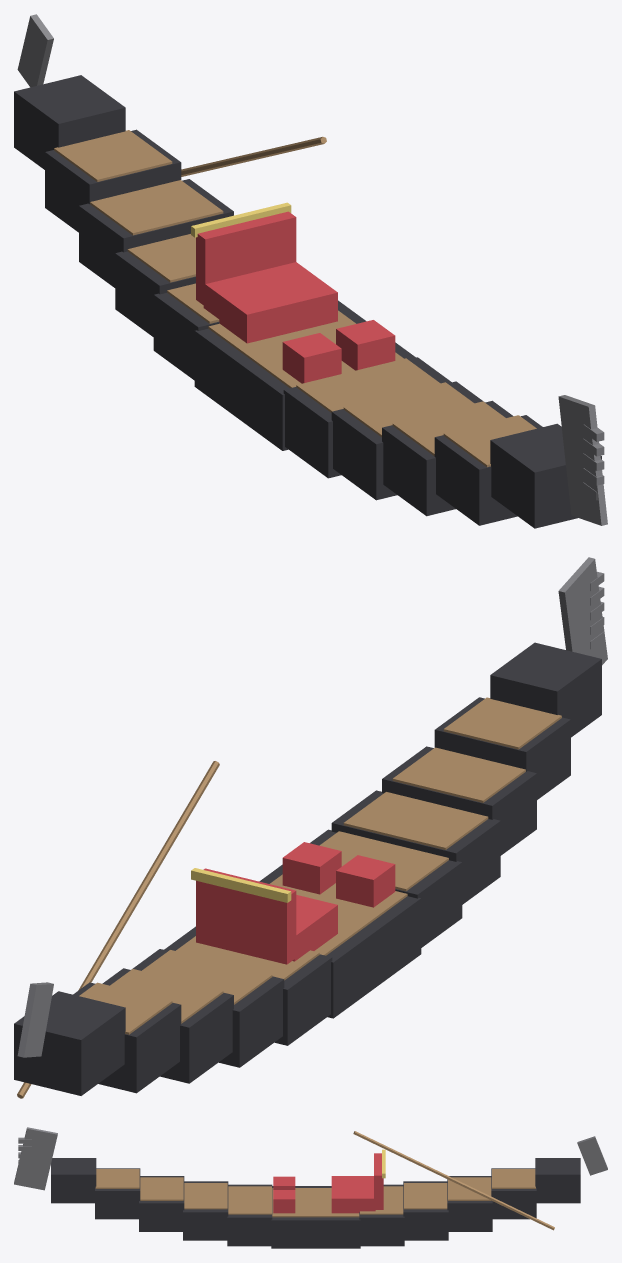
File: VN_Gondola.fbx
3 views of the same model, one above another, from view 1: azimuth 30°, elevation 25°; view 2: azimuth 150°, elevation 25°; view 3: azimuth 270°, elevation 25° (orthographic). The views are drawn at different scales.
Visible parts, largest first — view 1: VN_Gondola; view 2: VN_Gondola; view 3: VN_Gondola.
Boxes of the visible parts, x1,y1,x2,y2 form: VN_Gondola: [14, 14, 607, 528]; VN_Gondola: [14, 557, 607, 1098]; VN_Gondola: [14, 1127, 607, 1248].
Bounding box in the file's own units: 1.29 × 2 × 9.44.
